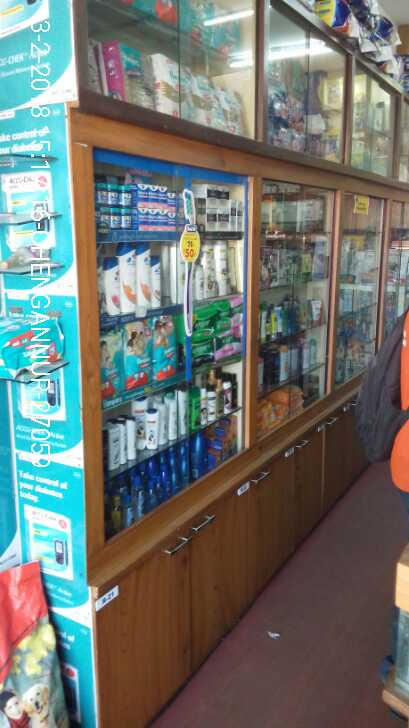vicks: (93, 181, 183, 234)
